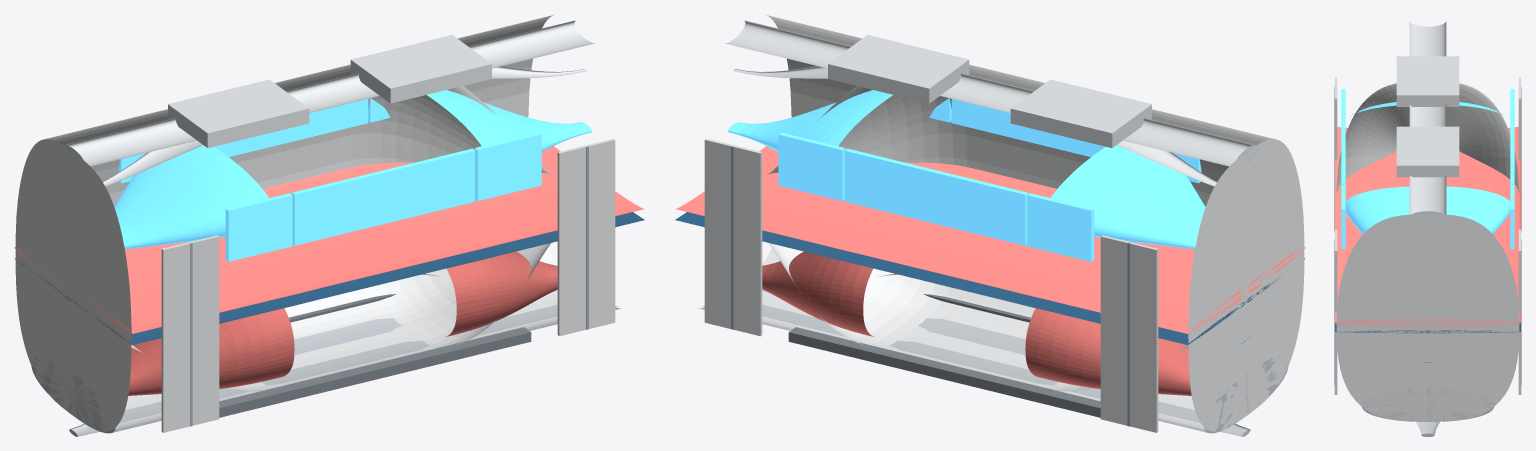
File: monorail.glb
The picture shows the model from 3 angles, left to right: view 1: azimuth 30°, elevation 25°; view 2: azimuth 150°, elevation 25°; view 3: azimuth 270°, elevation 25°; orthographic projection. The views are drawn at different scales.
Parts seen in each view (by area): view 1: lead_hull, mid_belt, mid_glass, tail_glass, lead_glass, lead_door, mid_door, mid_hull, lead_belt, tail_bib, lead_pods, mid_pods (+17 smaller); view 2: lead_hull, mid_belt, mid_glass, tail_glass, lead_glass, lead_door, mid_hull, tail_door, lead_belt, mid_door, tail_bib, lead_pods (+17 smaller); view 3: mid_hull, tail_hull, lead_glass, lead_belt, mid_belt, mid_pods, lead_pods, mid_spine, lead_spine, tail_pods, mid_skirt, mid_door (+11 smaller).
Part boxes in pixels (x1,y1,x2,y2): lead_hull: (15,68,553,431); mid_belt: (125,146,643,333); mid_glass: (118,99,541,261); tail_glass: (114,98,525,249); lead_glass: (136,90,591,257); lead_door: (161,235,219,432); mid_door: (557,138,615,336); mid_hull: (48,14,617,427); lead_belt: (14,170,479,333); tail_bib: (128,308,294,395); lead_pods: (168,79,309,147); mid_pods: (350,35,491,103); lead_hull: (766,68,1304,431); mid_belt: (676,146,1194,333); mid_glass: (778,99,1201,261); tail_glass: (803,98,1205,249); lead_glass: (728,90,1183,257); lead_door: (1100,235,1158,432); mid_hull: (702,15,1272,428); tail_door: (704,139,762,335); lead_belt: (840,171,1305,333); mid_door: (704,138,762,336); tail_bib: (1025,308,1191,395); lead_pods: (1010,79,1151,147); mid_hull: (1336,214,1519,421); tail_hull: (1336,83,1519,193); lead_glass: (1341,94,1514,233); lead_belt: (1335,126,1520,353); mid_belt: (1335,128,1520,327); mid_pods: (1396,126,1459,177); lead_pods: (1396,56,1459,106); mid_spine: (1409,22,1446,222); lead_spine: (1409,21,1446,248); tail_pods: (1396,126,1459,176); mid_skirt: (1361,388,1494,421); mid_door: (1334,229,1521,394).
Size of the model in its own units: 5.05 by 2.72 by 2.03.
